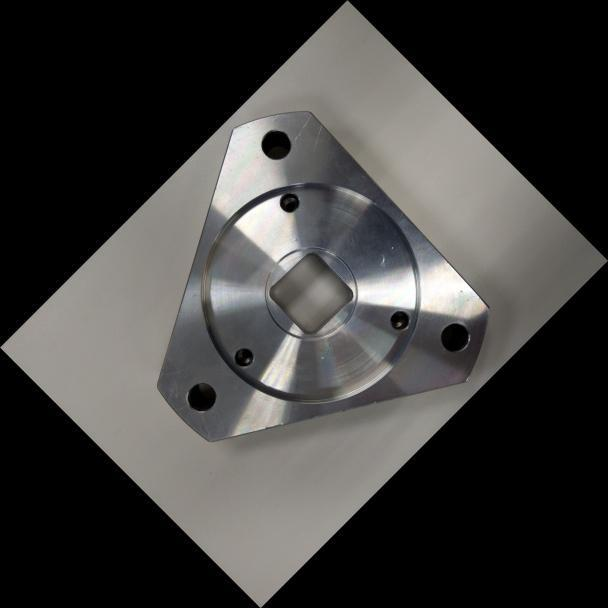hole: (252, 121, 299, 168), (178, 374, 224, 420), (432, 314, 478, 360), (382, 303, 416, 337), (227, 340, 260, 373), (273, 185, 306, 218)
